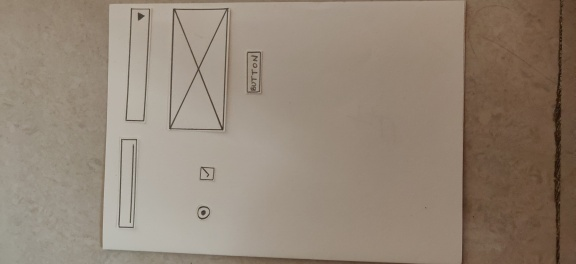button: (243, 49, 264, 97)
checkbox: (196, 165, 217, 183)
dropdown: (122, 6, 152, 123)
img: (167, 6, 232, 134)
radio: (194, 204, 213, 220)
text: (116, 137, 140, 230)
